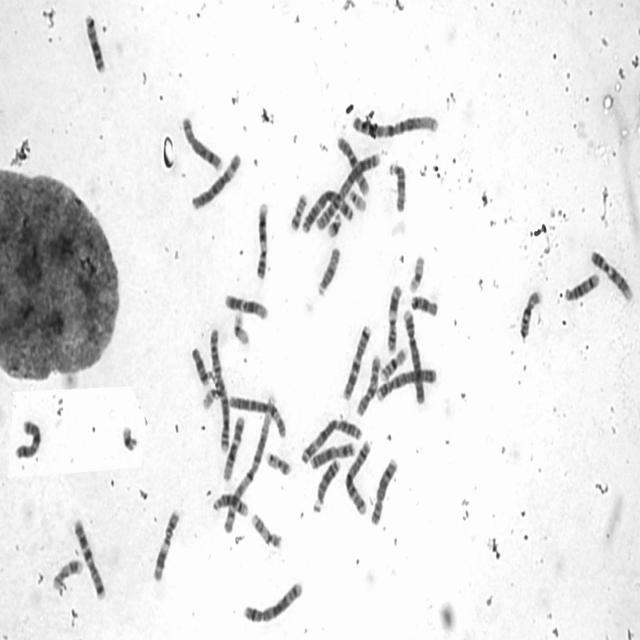A1: (222, 391, 275, 533), (348, 109, 439, 141)
A2: (313, 150, 382, 232), (207, 324, 231, 454)
A3: (300, 414, 362, 467), (300, 186, 355, 235)
B4: (374, 364, 438, 404), (401, 305, 426, 406)
B5: (241, 578, 304, 624), (343, 437, 372, 516)
C10: (335, 132, 371, 198), (354, 351, 382, 419)
C11: (151, 505, 182, 584), (384, 280, 404, 354)
C12: (221, 413, 246, 482), (223, 291, 268, 321)
C6: (189, 149, 243, 212), (227, 393, 287, 439)
C7: (72, 515, 108, 602), (340, 321, 372, 402)
C8: (179, 113, 224, 174), (368, 454, 399, 526)
C9: (589, 247, 634, 303), (253, 199, 270, 282)
D13: (310, 454, 341, 514), (82, 11, 106, 75)
D14: (562, 269, 601, 303), (211, 490, 249, 518)
D15: (315, 244, 342, 298), (387, 158, 408, 214)
E16: (518, 287, 544, 340), (378, 344, 409, 382)
E17: (250, 510, 283, 550), (53, 558, 83, 592)
E18: (189, 343, 211, 387), (409, 292, 439, 317)
F19: (407, 252, 426, 294), (231, 309, 251, 347)
F20: (288, 190, 308, 233), (265, 448, 292, 477)
G21: (120, 423, 140, 453), (326, 210, 343, 238)
G22: (346, 186, 369, 213), (201, 387, 220, 411)
X: (308, 438, 356, 471), (13, 417, 42, 461)
